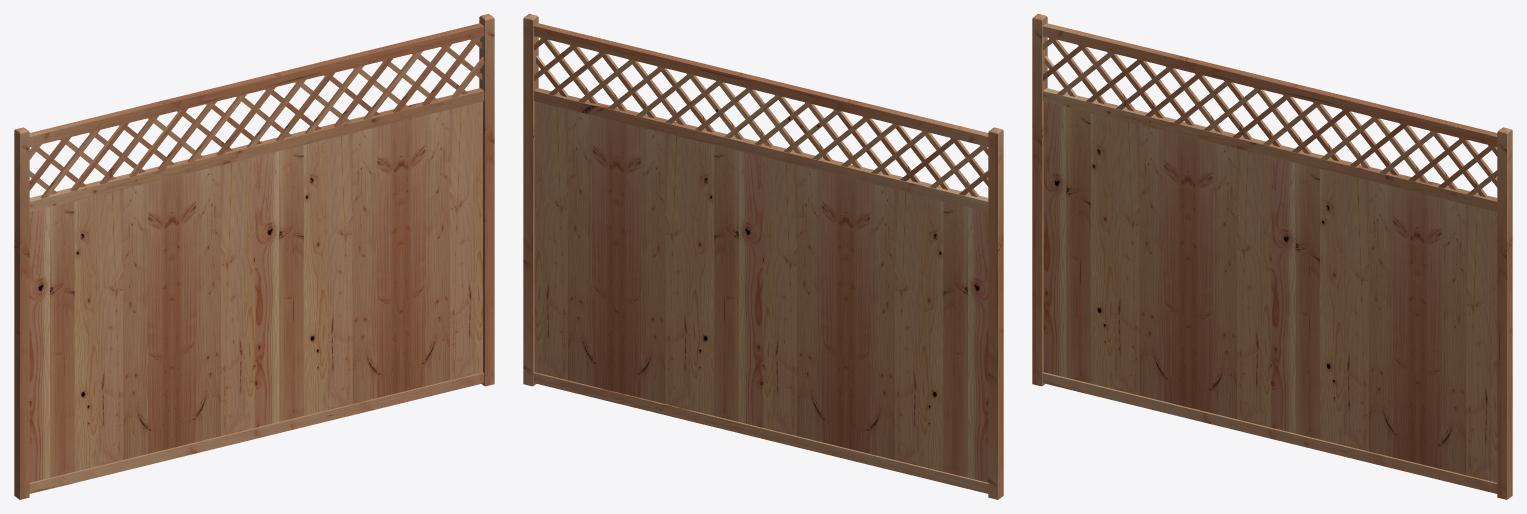
Rendered from Douglas_Lattice_Fence_.fbx.
3 views of the same model, side by side, from view 1: azimuth 30°, elevation 25°; view 2: azimuth 150°, elevation 25°; view 3: azimuth 330°, elevation 25° (orthographic).
Visible parts, largest first — view 1: polySurface39, Cedar_Lattice_:Pillar_, Cedar_Lattice_:Pillar_1; view 2: polySurface39, Cedar_Lattice_:Pillar_, Cedar_Lattice_:Pillar_1; view 3: polySurface39, Cedar_Lattice_:Pillar_1, Cedar_Lattice_:Pillar_.
Boxes of the visible parts, box(x1,y1,x2,y2) form: polySurface39: box(29, 23, 484, 493); Cedar_Lattice_:Pillar_: box(14, 127, 29, 499); Cedar_Lattice_:Pillar_1: box(479, 14, 494, 386); polySurface39: box(533, 23, 988, 493); Cedar_Lattice_:Pillar_: box(988, 127, 1003, 499); Cedar_Lattice_:Pillar_1: box(523, 14, 538, 386); polySurface39: box(1042, 23, 1497, 493); Cedar_Lattice_:Pillar_1: box(1497, 127, 1512, 499); Cedar_Lattice_:Pillar_: box(1032, 14, 1047, 386).
Bounding box in the file's own units: 99.39 × 73.63 × 2.
Materials: 1 (1 with a texture image).
